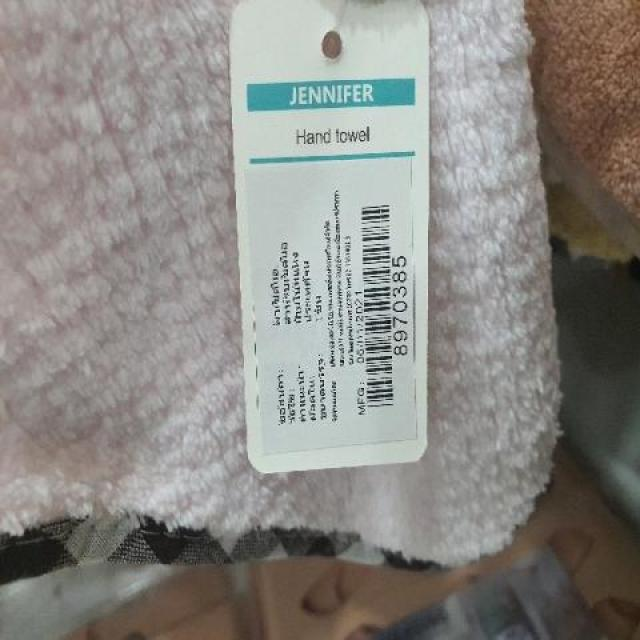Barcode: (355, 190, 406, 418)
